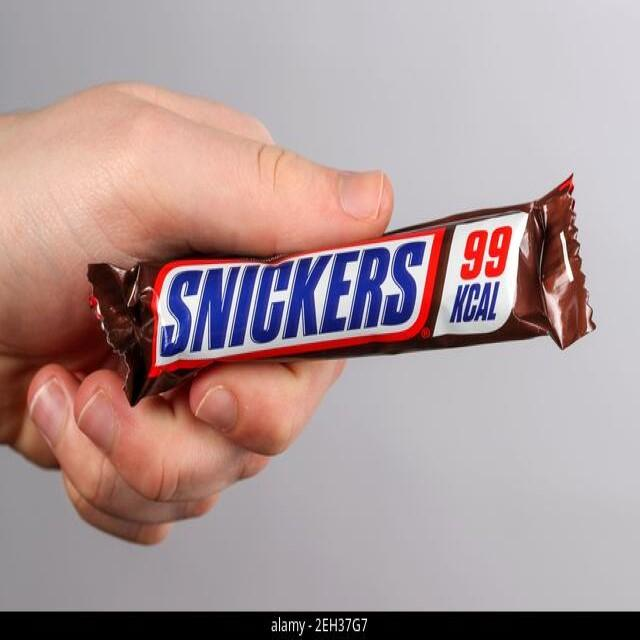snickers_chocolate: (103, 202, 580, 355)
